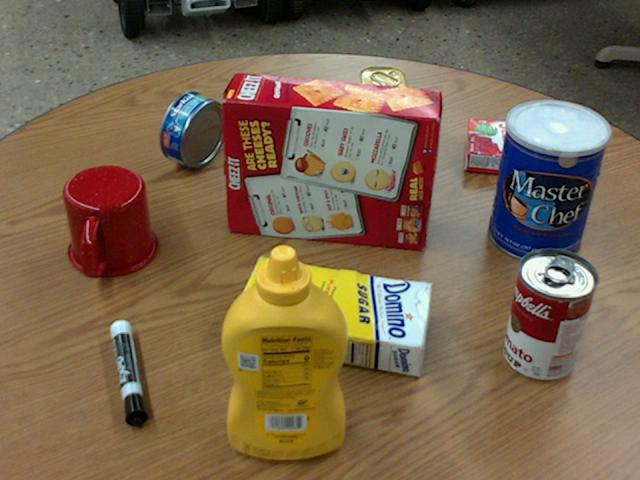cracker_box: (221, 74, 439, 249)
gelatin_box: (466, 116, 528, 175)
large_marker: (109, 320, 145, 424)
master_chef_can: (488, 99, 608, 262)
mug: (63, 166, 158, 276)
mustard_bottle: (220, 245, 345, 458)
potted_meat_can: (359, 65, 410, 163)
sugar_box: (231, 255, 433, 377)
tomato_soup_can: (503, 249, 597, 380)
tuna_fish_can: (159, 92, 225, 168)
